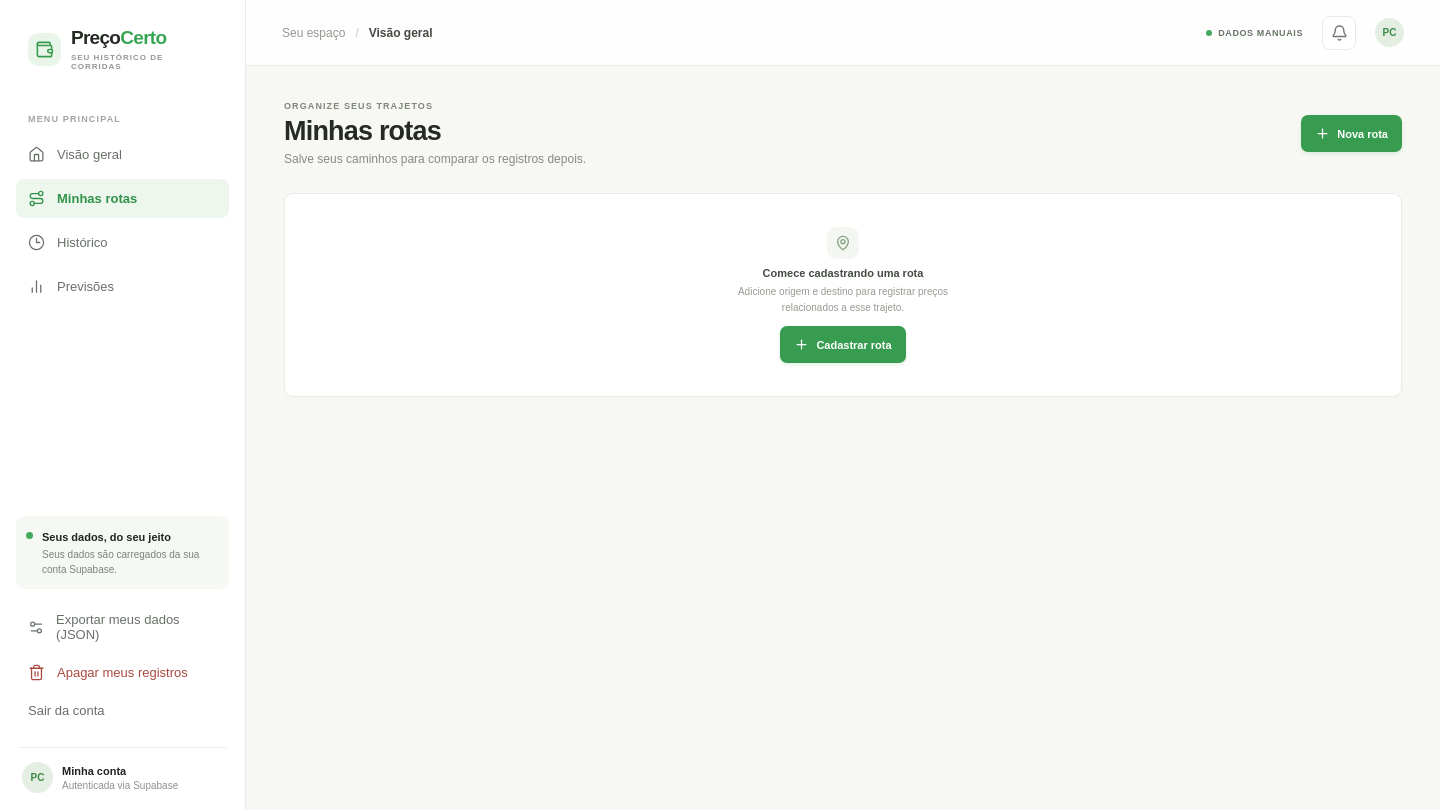
Test: PreçoCerto conectado › cadastra uma rota
The width and height of the screenshot is (1440, 810).
Click the button "Nova rota".
click(1352, 134)  # box [1301, 115, 1402, 152]
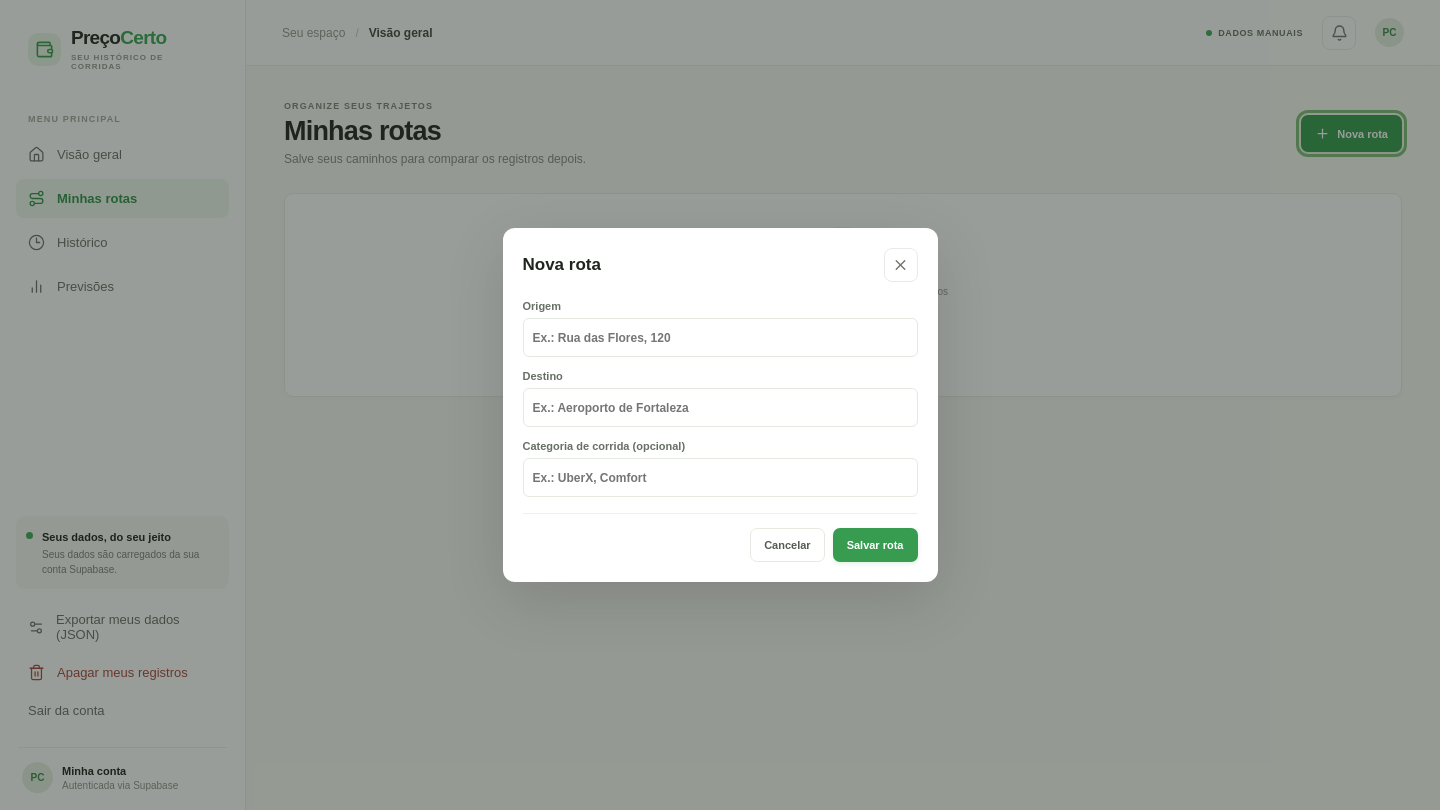
Type "Aldeota, Fortaleza" into the field labelled "Origem".
click(720, 338); type("Aldeota, Fortaleza")  # box [522, 318, 918, 357]
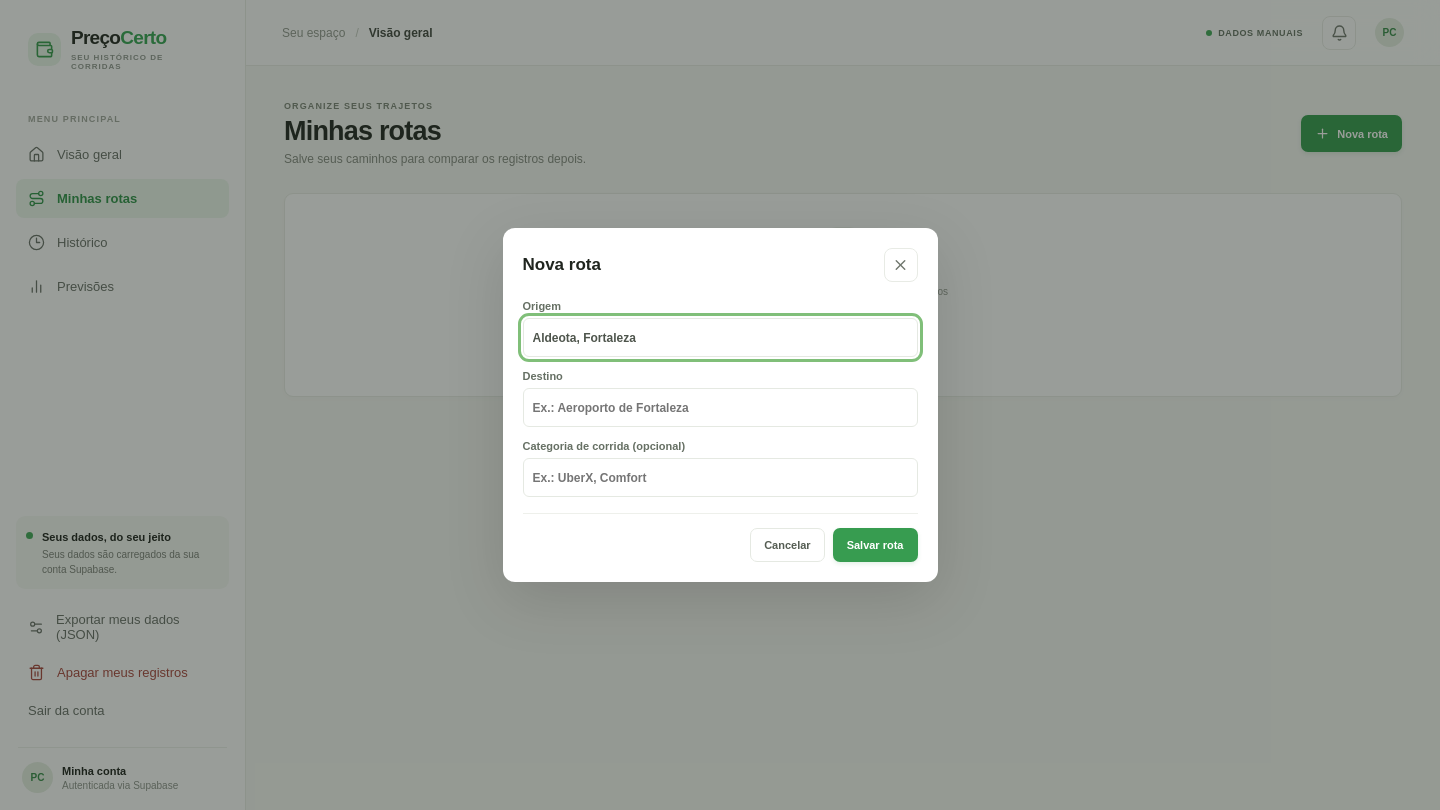
Type "Aeroporto de Fortaleza" into the field labelled "Destino".
click(720, 408); type("Aeroporto de Fortaleza")  # box [522, 388, 918, 427]
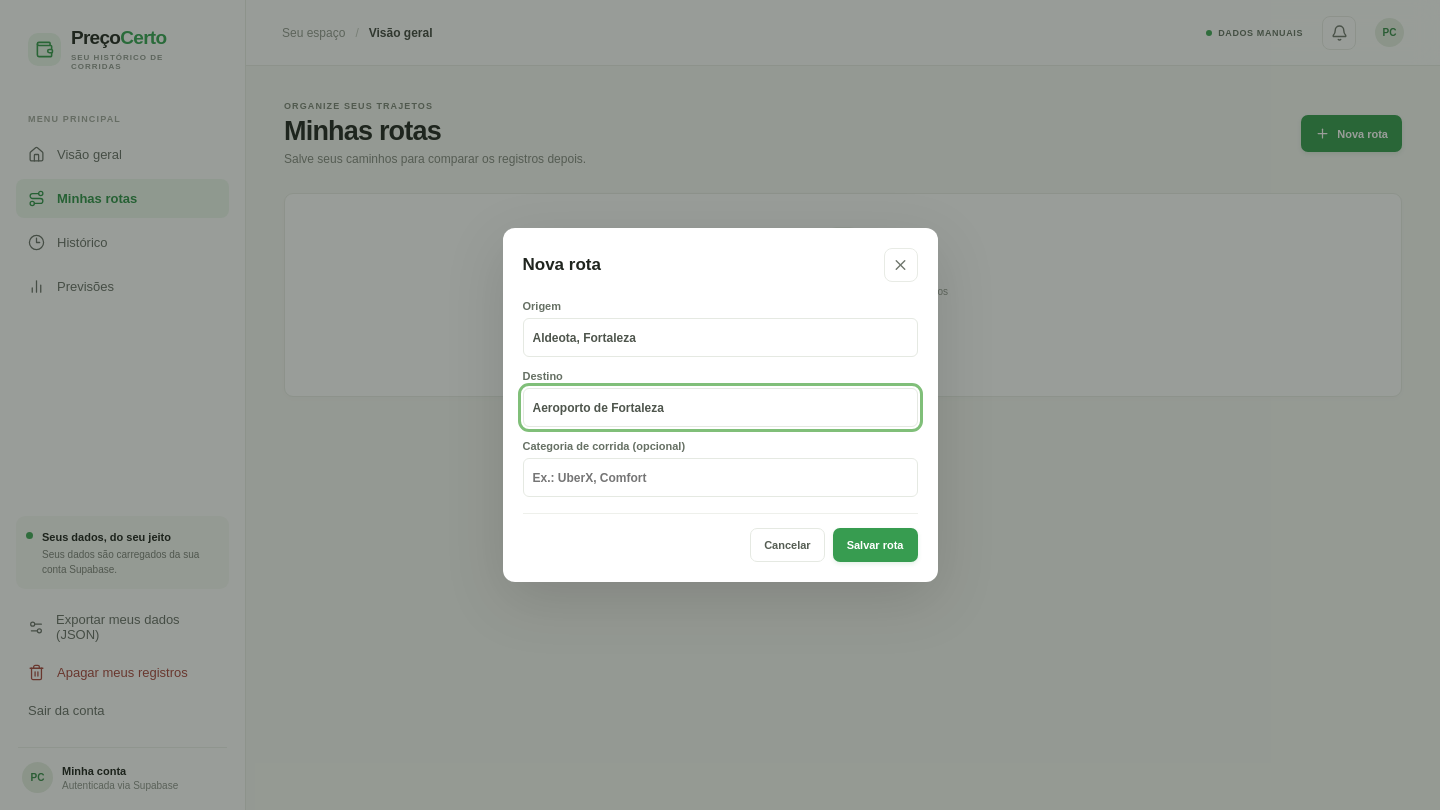
Click the button "Salvar rota".
click(875, 545)  # box [833, 528, 918, 562]
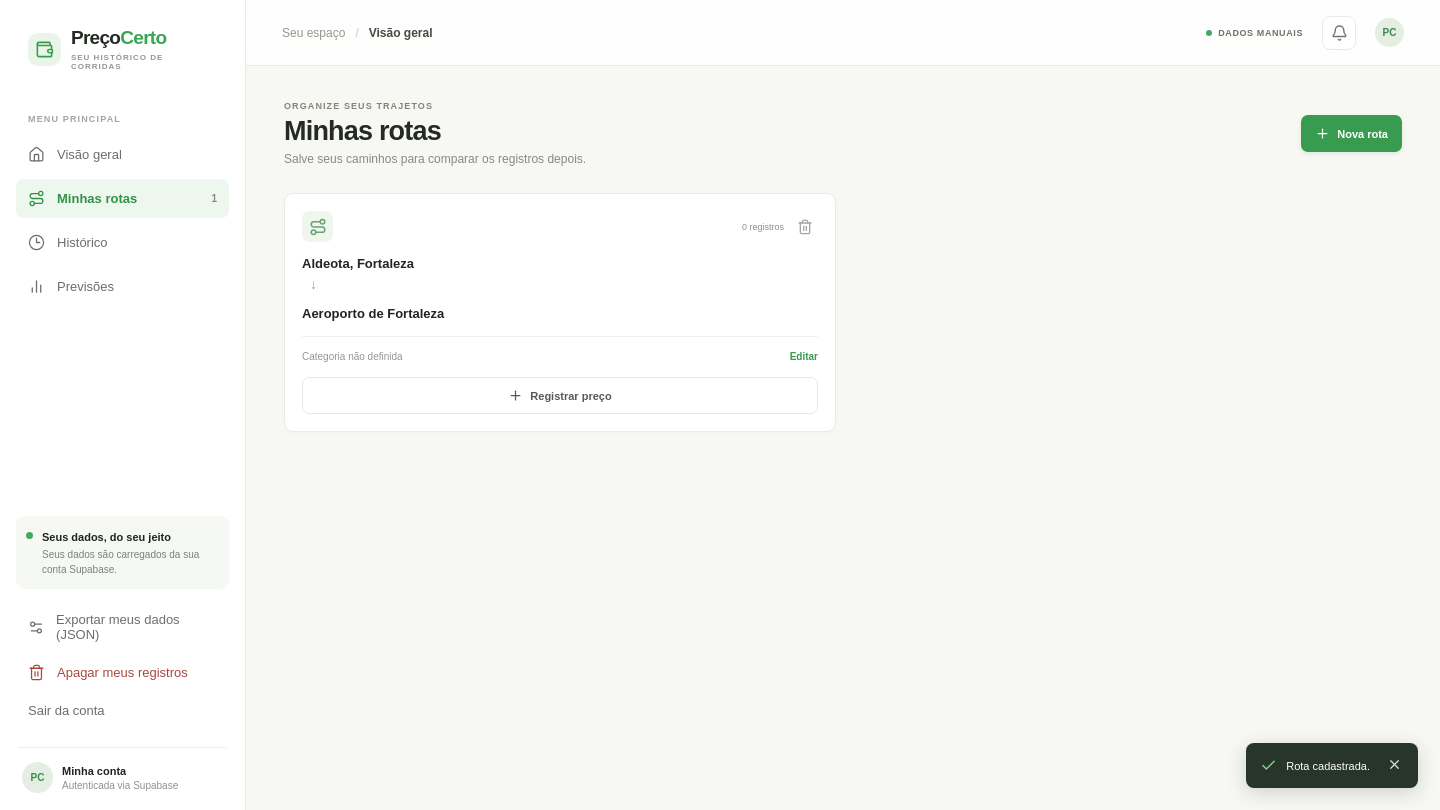
Now the heading "Aldeota, Fortaleza" is shown, box [302, 256, 414, 271]
Now the heading "Aeroporto de Fortaleza" is shown, box [302, 306, 444, 321]
